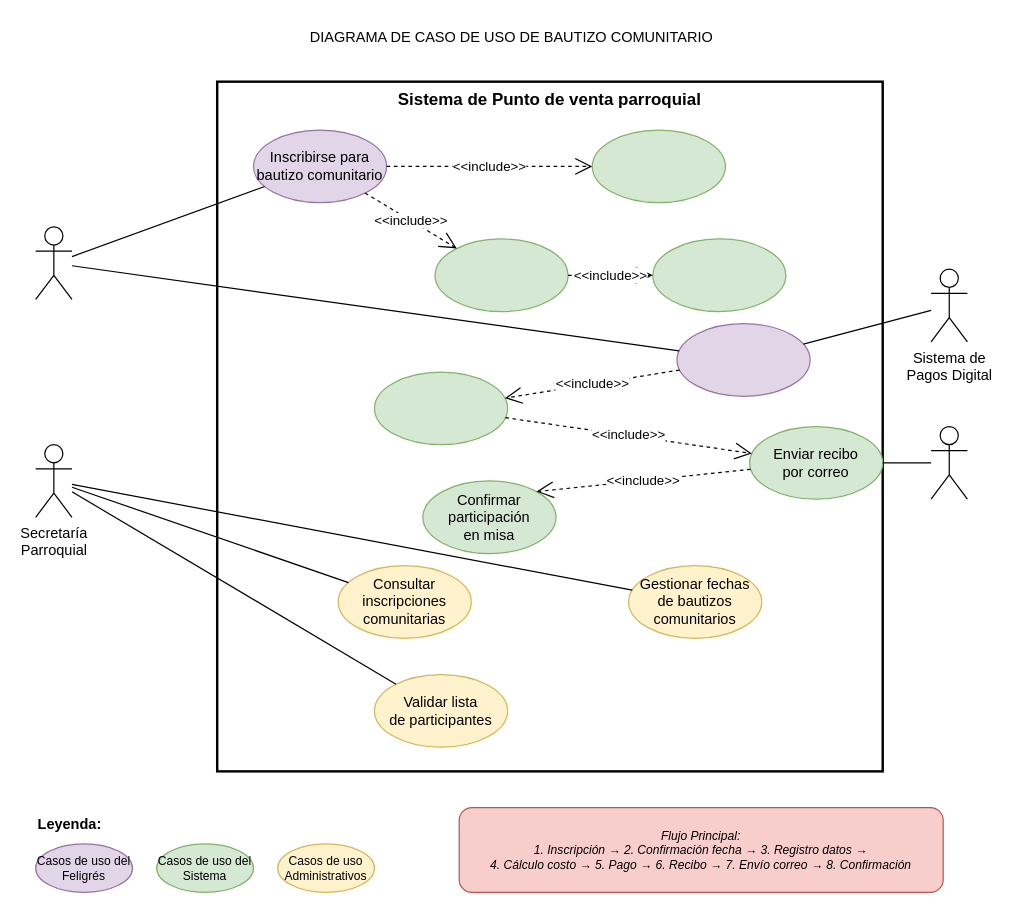
The diagram is 1015 pixels wide and 914 high, and some of its shapes have lost their labels. The centre of each missing label's shape, as x and y in pixels:
"Calcular costo total del grupo" goes at (x=719, y=275).
"Confirmar fecha disponible" goes at (x=658, y=166).
"Emitir recibo digital" goes at (x=440, y=408).
"Feligrés" goes at (x=53, y=262).
"Realizar pago digital grupal" goes at (x=743, y=359).
"Registrar datos de participantes" goes at (x=501, y=275).
"Sistema de Notificaciones" goes at (x=948, y=462).
